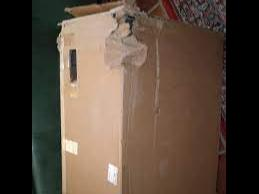damage_box: (54, 0, 226, 194)
